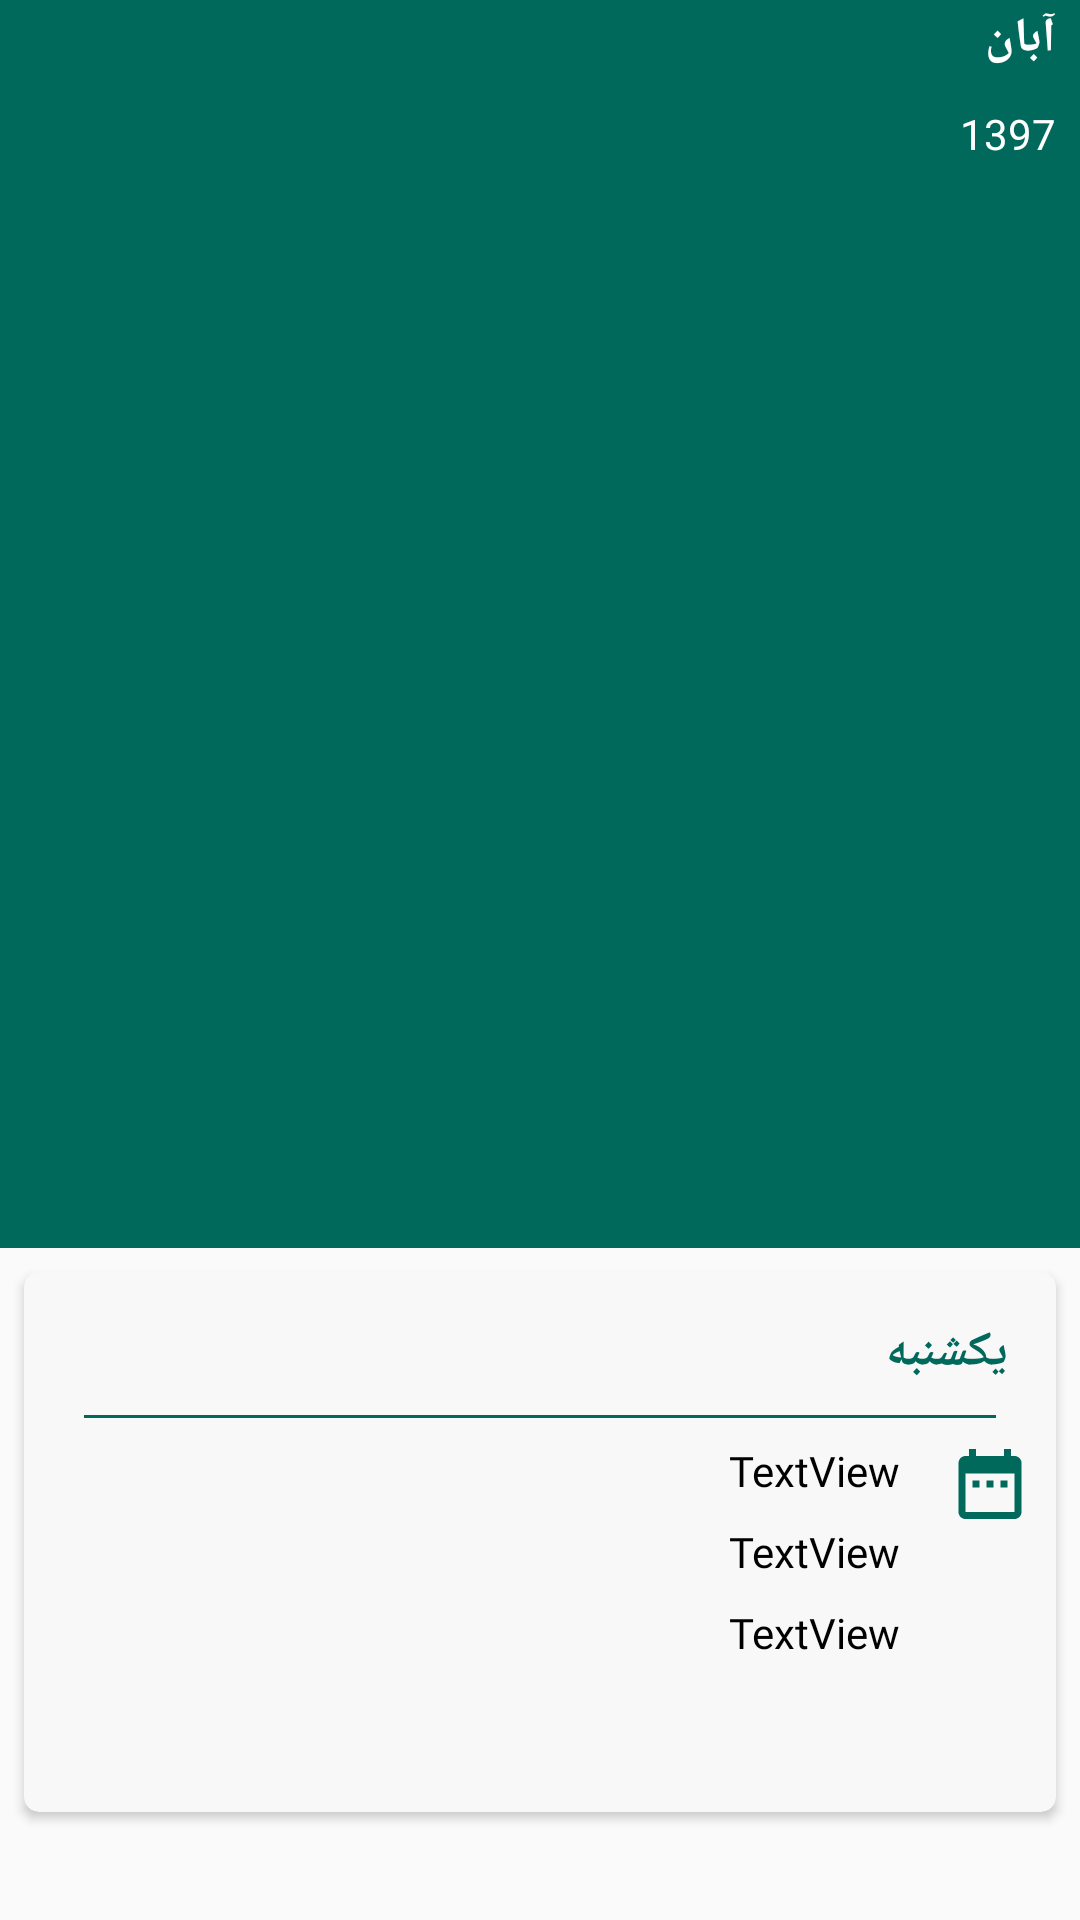

Where to tap for icons on this 1080x1920 app screen, as point (x, y):
date: point (990, 1484)
